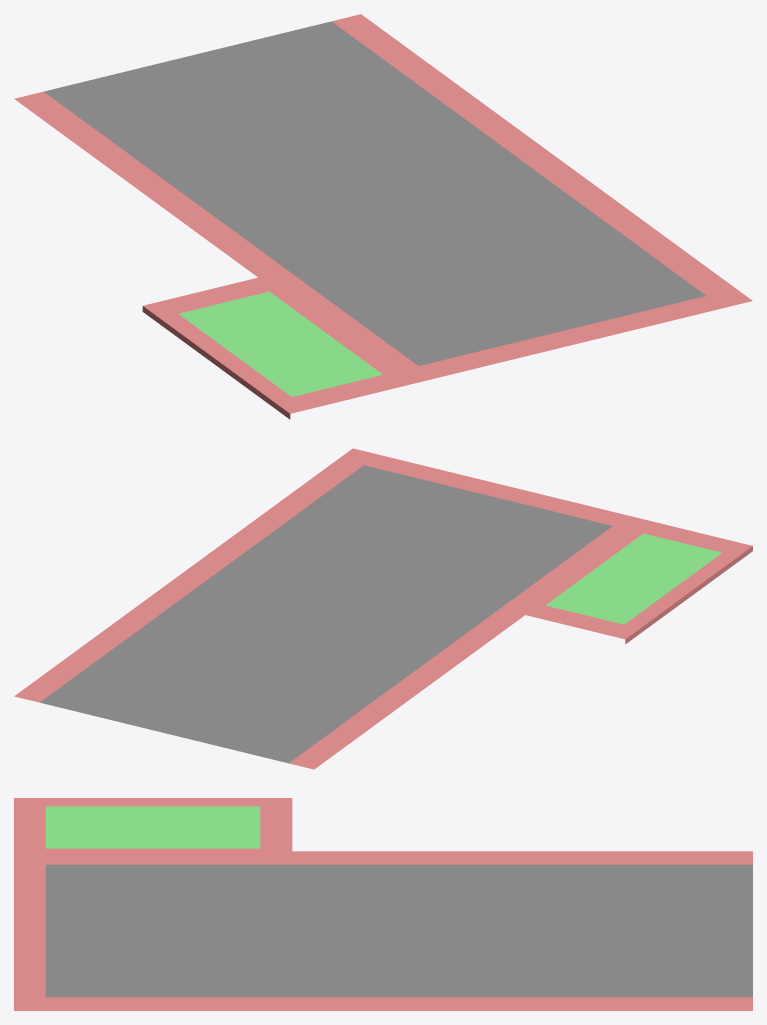
File: S_Envi_FZFBase_Ground_02d.gltf
The picture shows the model from 3 angles, top to bottom: view 1: azimuth 30°, elevation 25°; view 2: azimuth 150°, elevation 25°; view 3: azimuth 270°, elevation 25°; orthographic projection. The views are drawn at different scales.
Visible parts, largest first — view 1: S_Envi_FZFBase_Ground_02d; view 2: S_Envi_FZFBase_Ground_02d; view 3: S_Envi_FZFBase_Ground_02d.
Boxes of the visible parts, left/top/right/bottom form: S_Envi_FZFBase_Ground_02d: left=14, top=14, right=752, bottom=419; S_Envi_FZFBase_Ground_02d: left=14, top=448, right=752, bottom=769; S_Envi_FZFBase_Ground_02d: left=14, top=798, right=752, bottom=1010.
Bounding box in the file's own units: 8.91 × 0.1106 × 13.07.
